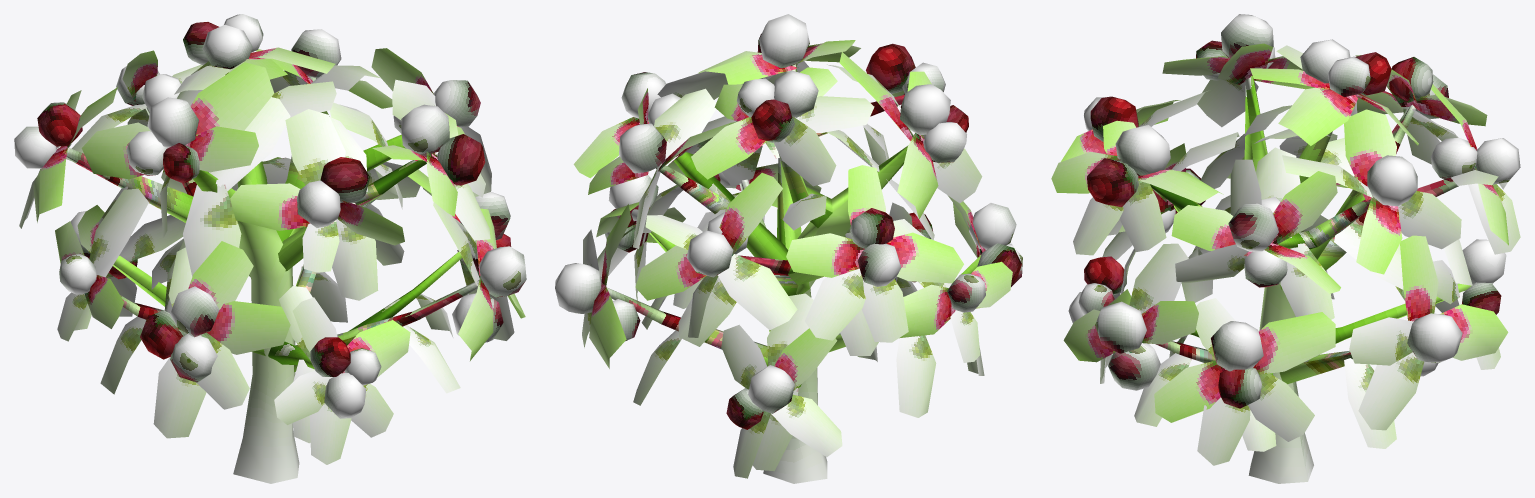
Rendered from botany_000027_02.FBX.
3 views of the same model, side by side, from view 1: azimuth 30°, elevation 25°; view 2: azimuth 150°, elevation 25°; view 3: azimuth 270°, elevation 25° (orthographic). The views are drawn at different scales.
Parts seen in each view (by area): view 1: botany_000027_02; view 2: botany_000027_02; view 3: botany_000027_02.
Boxes of the visible parts, x1,y1,x2,y2 form: botany_000027_02: (14,14,526,483); botany_000027_02: (555,14,1022,483); botany_000027_02: (1051,14,1520,483).
Bounding box in the file's own units: 115 × 113 × 114.
